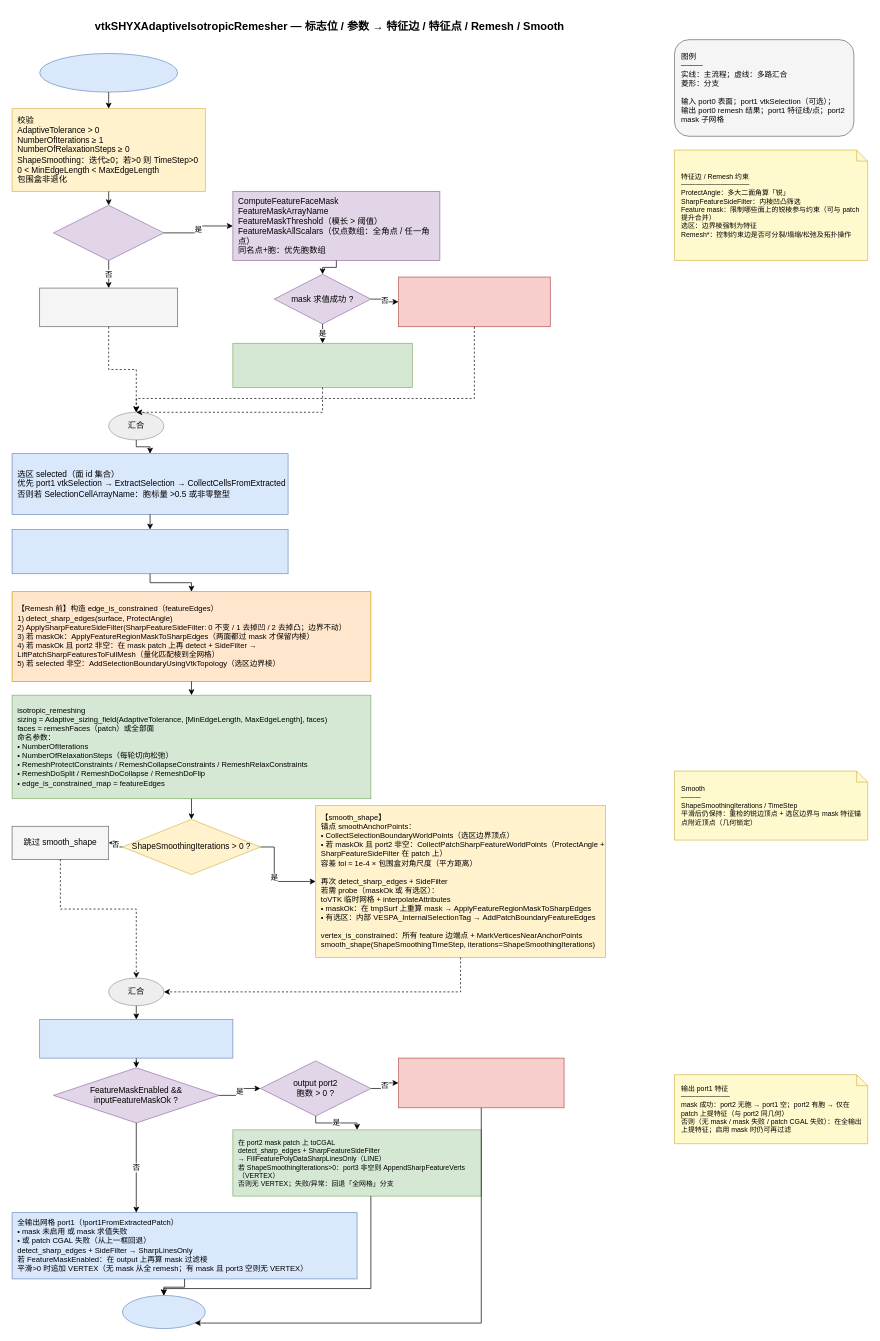
Image size: 880x1341. Some labels were removed from this diagram. Here are the shapes that lost their labels. From the top down, the centre of each, then its label:
pixel 108 72: RequestData 输入 port0 vtkPolyData
pixel 108 232: FeatureMaskEnabled ?
pixel 108 307: port2 清空 inputFeatureMaskOk=false
pixel 474 301: inputFeatureMaskOk=false port2 空；后续按「无 mask」 警告
pixel 322 365: output port2 ExtractMaskedFacesPolyData （mask 子网格）
pixel 149 551: toCGAL(input) → cgalMesh remeshFaces = selected 对应 CGAL 面（有效则 patchRemesh）
pixel 136 1038: toVTK → output port0 interpolateAttributes(input → output)
pixel 481 1082: port2 无胞 → outputFeatures.Initialize() （port1 空，不做全网格特征）
pixel 163 1312: return 1
